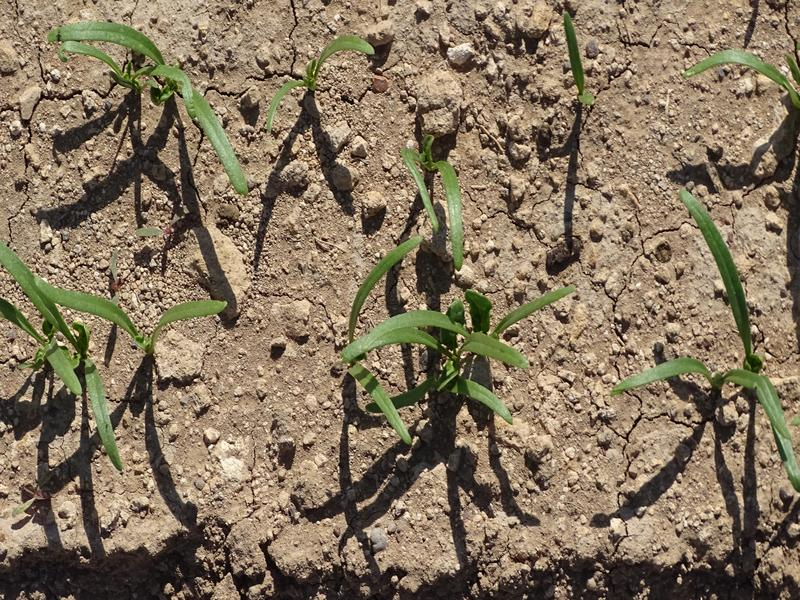Espinaca: (339, 135, 578, 428), (623, 192, 800, 494), (1, 246, 228, 461), (51, 22, 255, 200), (267, 34, 376, 123), (690, 49, 796, 97)
